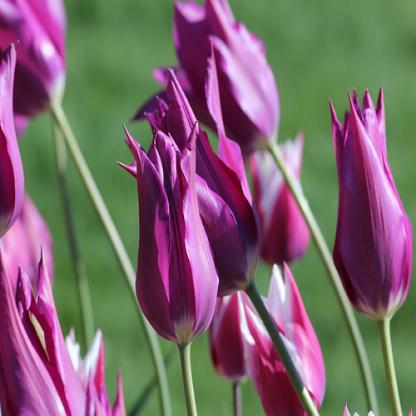TULIP: (111, 21, 411, 399)
